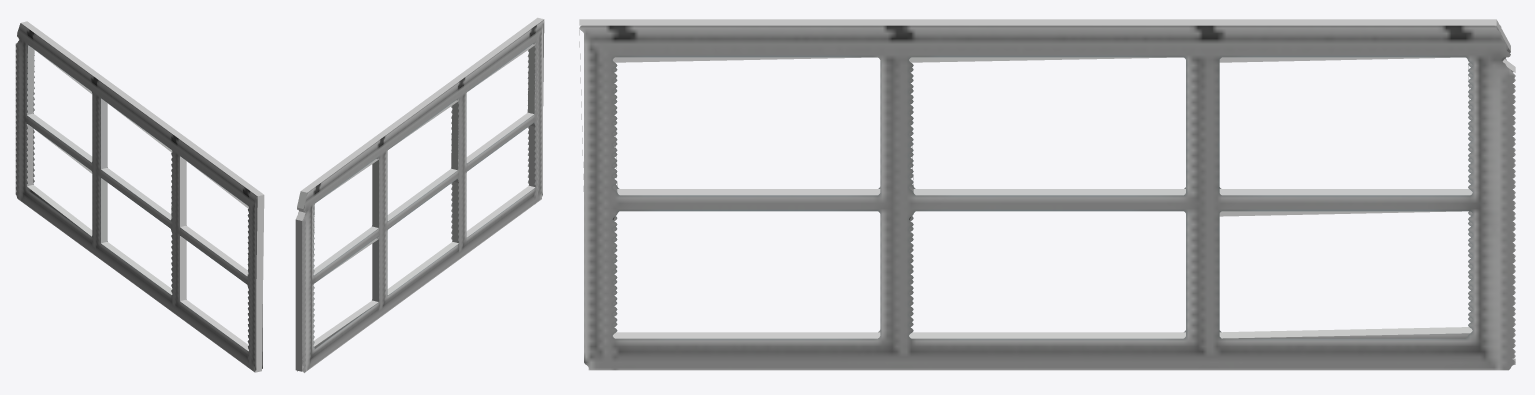
Rendered from pz_native_fixtures_windows_white_14_frame.obj.
The picture shows the model from 3 angles, left to right: view 1: azimuth 30°, elevation 25°; view 2: azimuth 150°, elevation 25°; view 3: azimuth 270°, elevation 25°; orthographic projection. The views are drawn at different scales.
Parts seen in each view (by area): view 1: pz_native_fixtures_windows_white_14_frame; view 2: pz_native_fixtures_windows_white_14_frame; view 3: pz_native_fixtures_windows_white_14_frame.
Part boxes in pixels (x1,y1,x2,y2): pz_native_fixtures_windows_white_14_frame: (15, 21, 264, 372); pz_native_fixtures_windows_white_14_frame: (295, 17, 544, 372); pz_native_fixtures_windows_white_14_frame: (579, 19, 1515, 370).
Bounding box in the file's own units: 0.04 × 1.06 × 2.53.
1 material, 1 textured.
